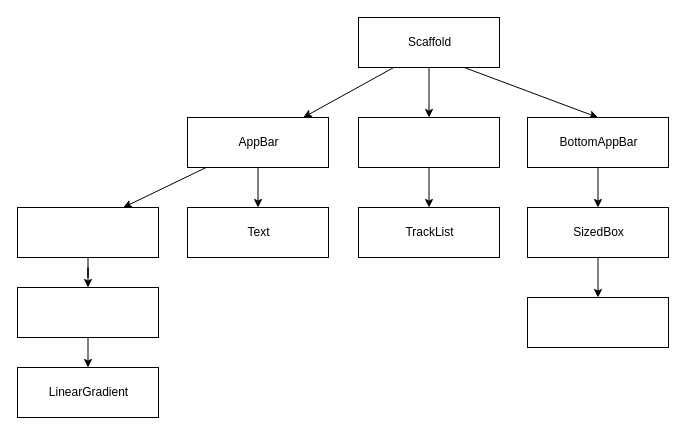
The diagram is 686 pixels wide and 435 high, and some of its shapes have lost their labels. The centre of each missing label's shape, as x and y in pixels:
"BoxDecoration" belongs at (x=87, y=312).
"Container" belongs at (x=87, y=232).
"Expanded" belongs at (x=429, y=142).
"PlayBar" belongs at (x=597, y=322).
